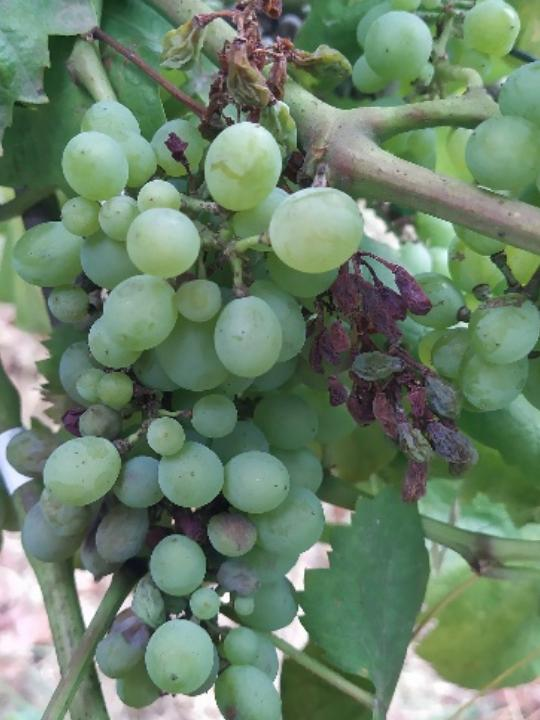grape: (0, 28, 373, 720)
